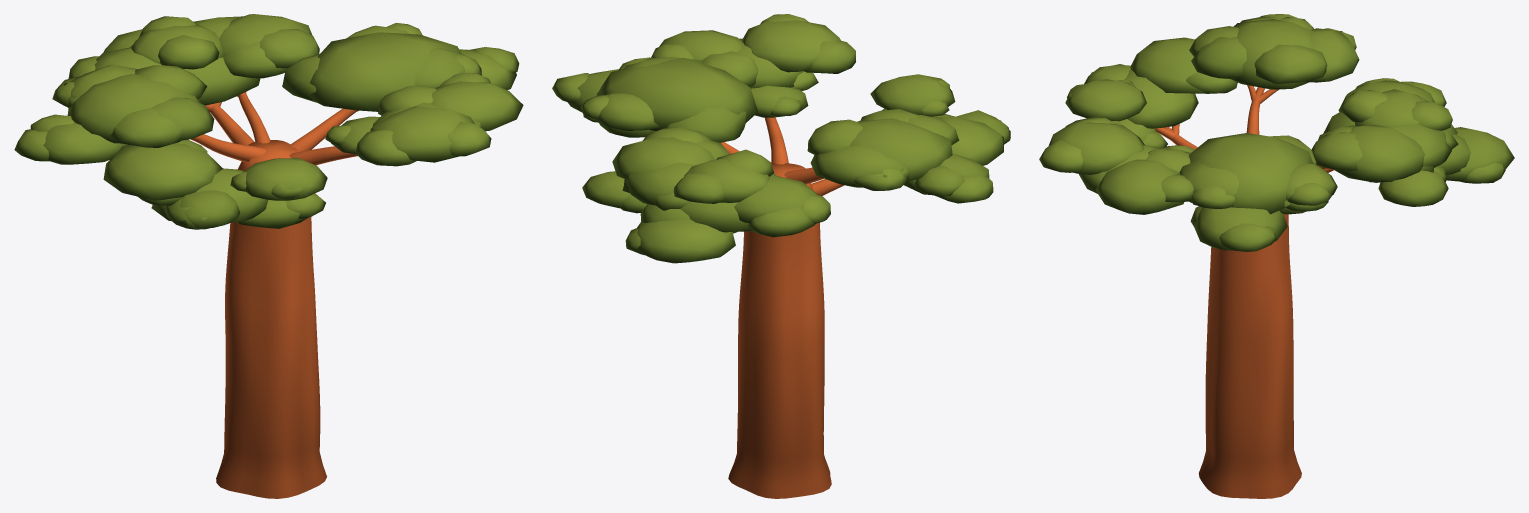
File: baobab_column.glb
3 renders of one model, left to right at view 1: azimuth 30°, elevation 25°; view 2: azimuth 150°, elevation 25°; view 3: azimuth 270°, elevation 25°, orthographic. The views are drawn at different scales.
Visible parts, largest first — view 1: baobab_column_leaves, baobab_column_bark; view 2: baobab_column_leaves, baobab_column_bark; view 3: baobab_column_leaves, baobab_column_bark.
Boxes of the visible parts, left/top/right/bottom form: baobab_column_leaves: left=14, top=14, right=523, bottom=229; baobab_column_bark: left=191, top=92, right=358, bottom=498; baobab_column_leaves: left=552, top=14, right=1010, bottom=263; baobab_column_bark: left=721, top=117, right=844, bottom=498; baobab_column_leaves: left=1039, top=14, right=1514, bottom=251; baobab_column_bark: left=1154, top=85, right=1334, bottom=498.
Size of the model in its own units: 27.54 by 22.65 by 25.03.
